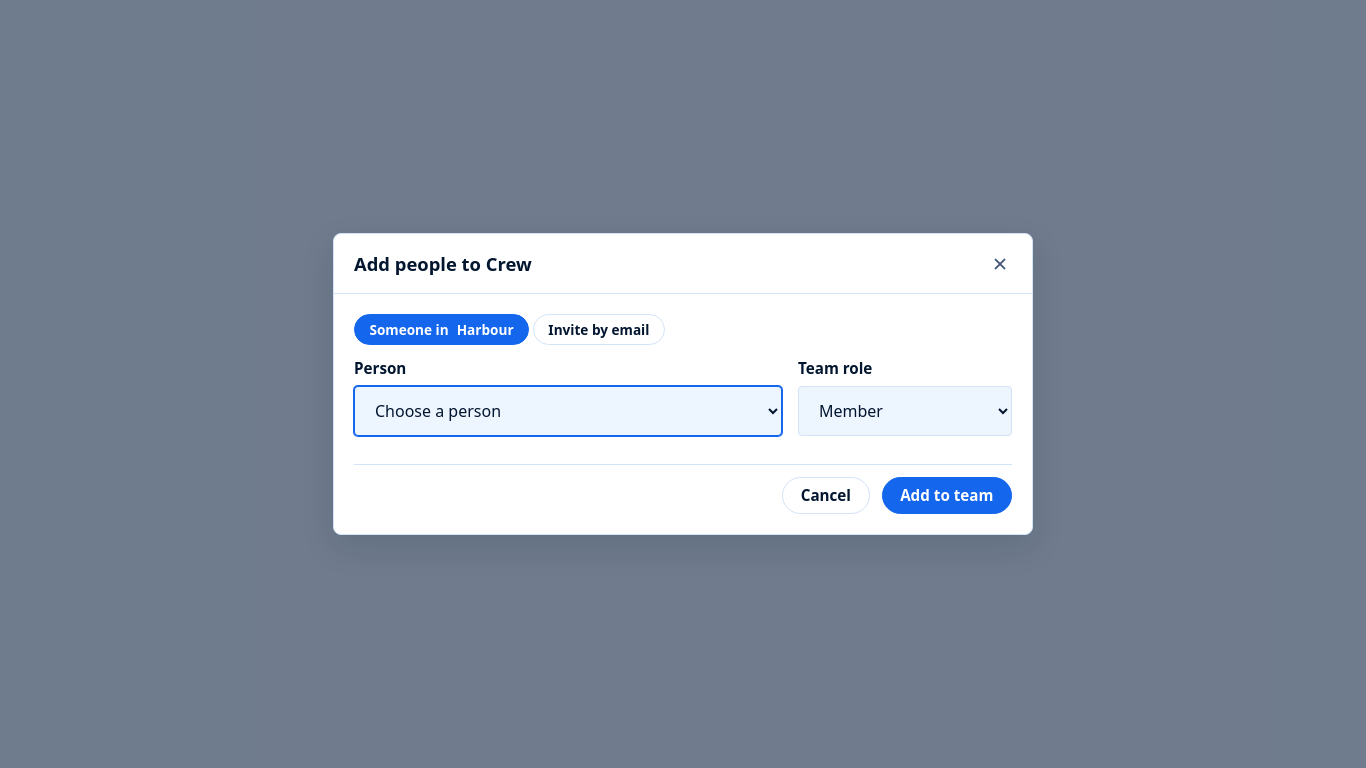
Test: AddPeopleDialog adding someone already in the organisation › says who to choose when nobody is picked, without adding anyone
Click the button "Add to team" at coordinates (947, 496), box [882, 477, 1012, 514]
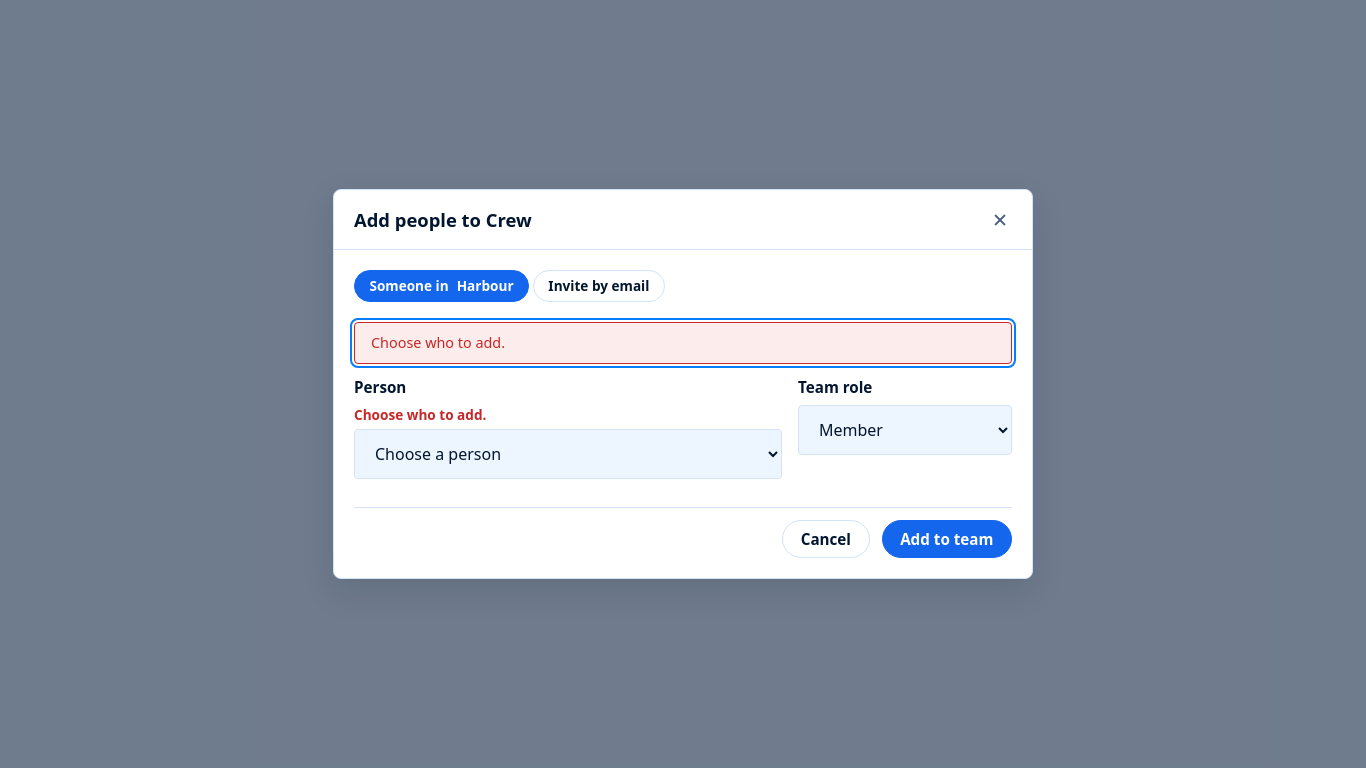
Check: the message reads "Choose who to add.", box [371, 333, 505, 352]
